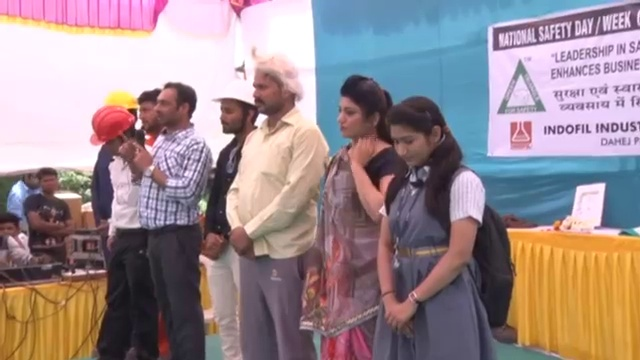helmet: (89, 102, 135, 147), (206, 75, 260, 110)
helmet_off: (385, 92, 455, 178), (243, 57, 309, 120), (334, 73, 387, 147), (155, 85, 197, 134), (227, 89, 257, 139), (135, 91, 162, 132), (0, 212, 21, 249), (31, 171, 56, 202), (20, 171, 41, 193)
helmet_on: (88, 101, 140, 160), (208, 81, 256, 141)
person: (379, 95, 515, 360), (225, 54, 331, 360), (320, 80, 401, 360), (133, 84, 215, 360), (200, 74, 258, 359), (86, 104, 149, 360), (24, 169, 68, 250), (0, 213, 49, 272), (6, 171, 39, 222)
